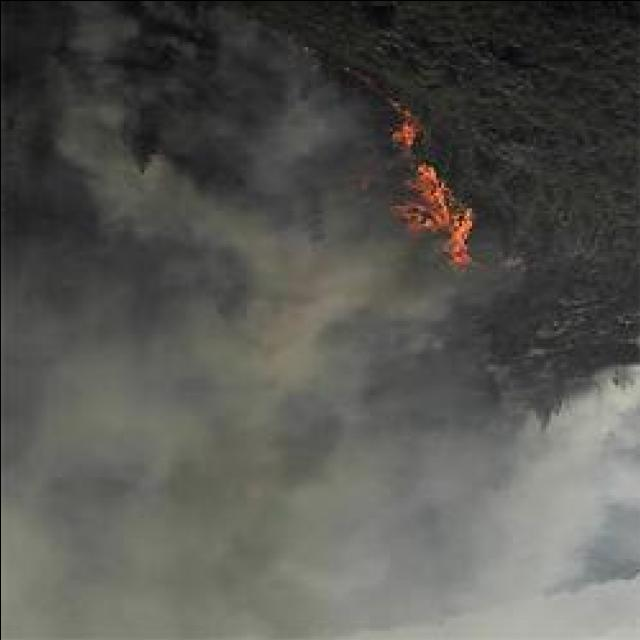fire: (405, 167, 447, 215), (444, 212, 472, 262)
smoke: (54, 369, 188, 471), (544, 409, 640, 546), (270, 242, 384, 332), (272, 95, 360, 163), (148, 190, 240, 240), (55, 107, 119, 169), (76, 1, 136, 63)
